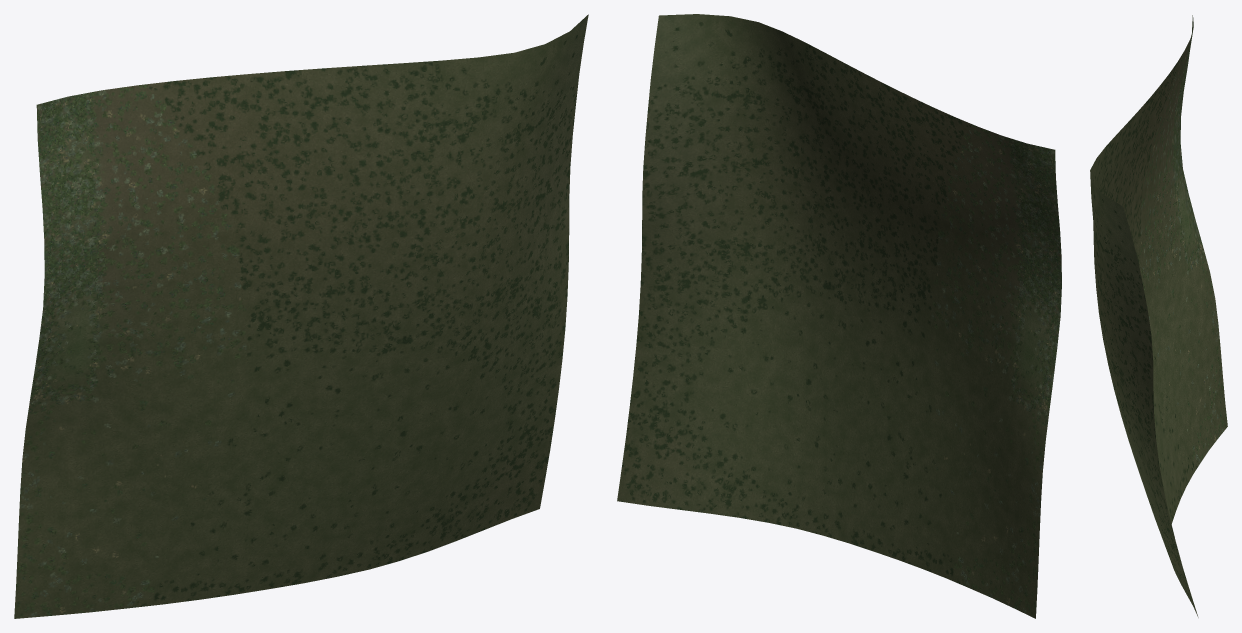
Rendered from terrain_mid_05_03.obj.
3 views of the same model, side by side, from view 1: azimuth 30°, elevation 25°; view 2: azimuth 150°, elevation 25°; view 3: azimuth 270°, elevation 25° (orthographic). The views are drawn at different scales.
Visible parts, largest first — view 1: terrain_mid_05_03; view 2: terrain_mid_05_03; view 3: terrain_mid_05_03.
Boxes of the visible parts, <box> form: terrain_mid_05_03: <box>14,14,588,618</box>; terrain_mid_05_03: <box>617,14,1061,618</box>; terrain_mid_05_03: <box>1090,15,1227,617</box>.
Bounding box in the file's own units: 320 × 320 × 96.85.
Materials: 1 (1 with a texture image).
